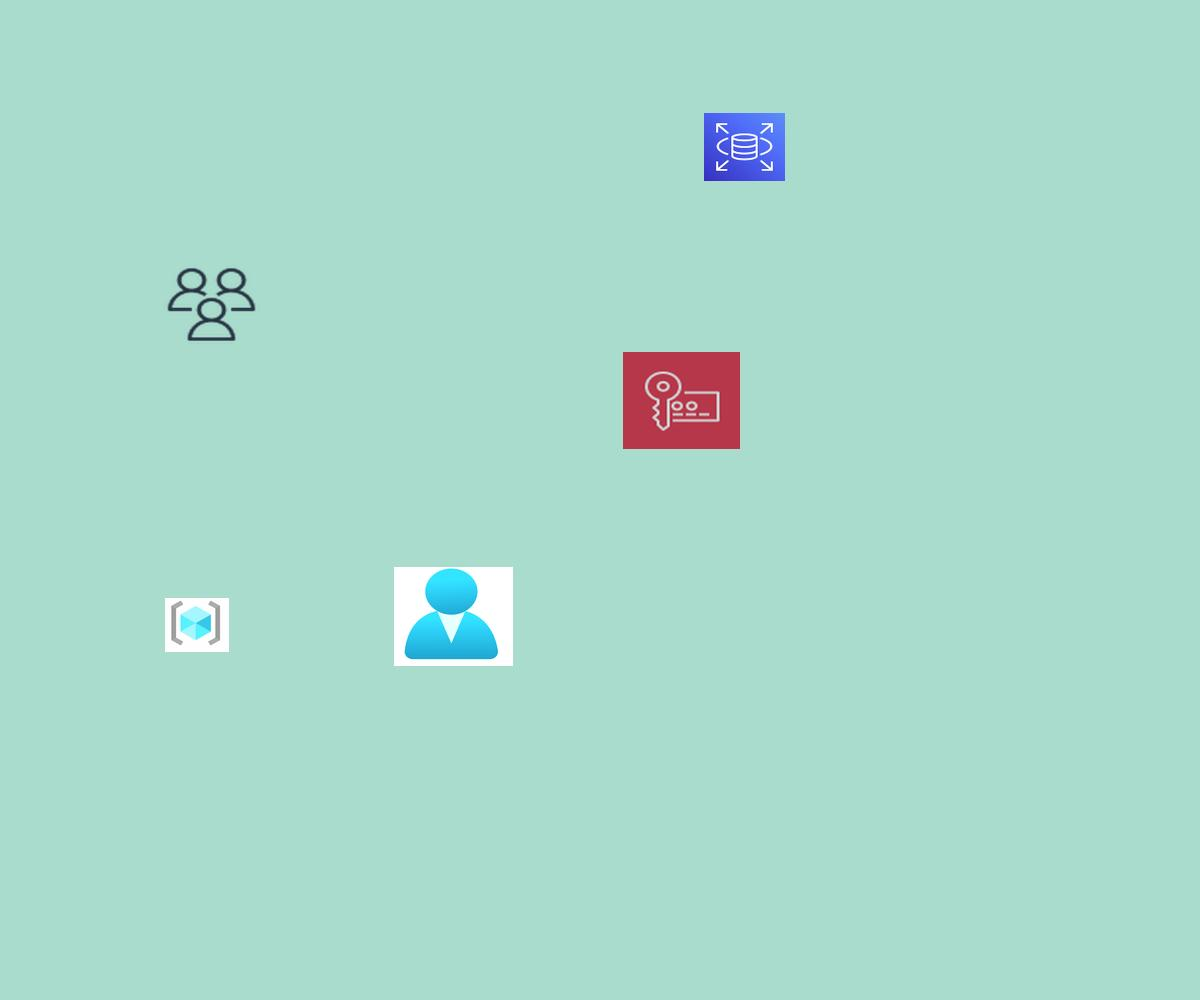AWS-Key-Management-Service: (623, 352, 740, 449)
AWS-RDS: (704, 113, 785, 181)
AWS-Res_Users: (164, 265, 259, 344)
Azure_resource_group: (165, 598, 229, 652)
Azure_users: (394, 567, 513, 666)
